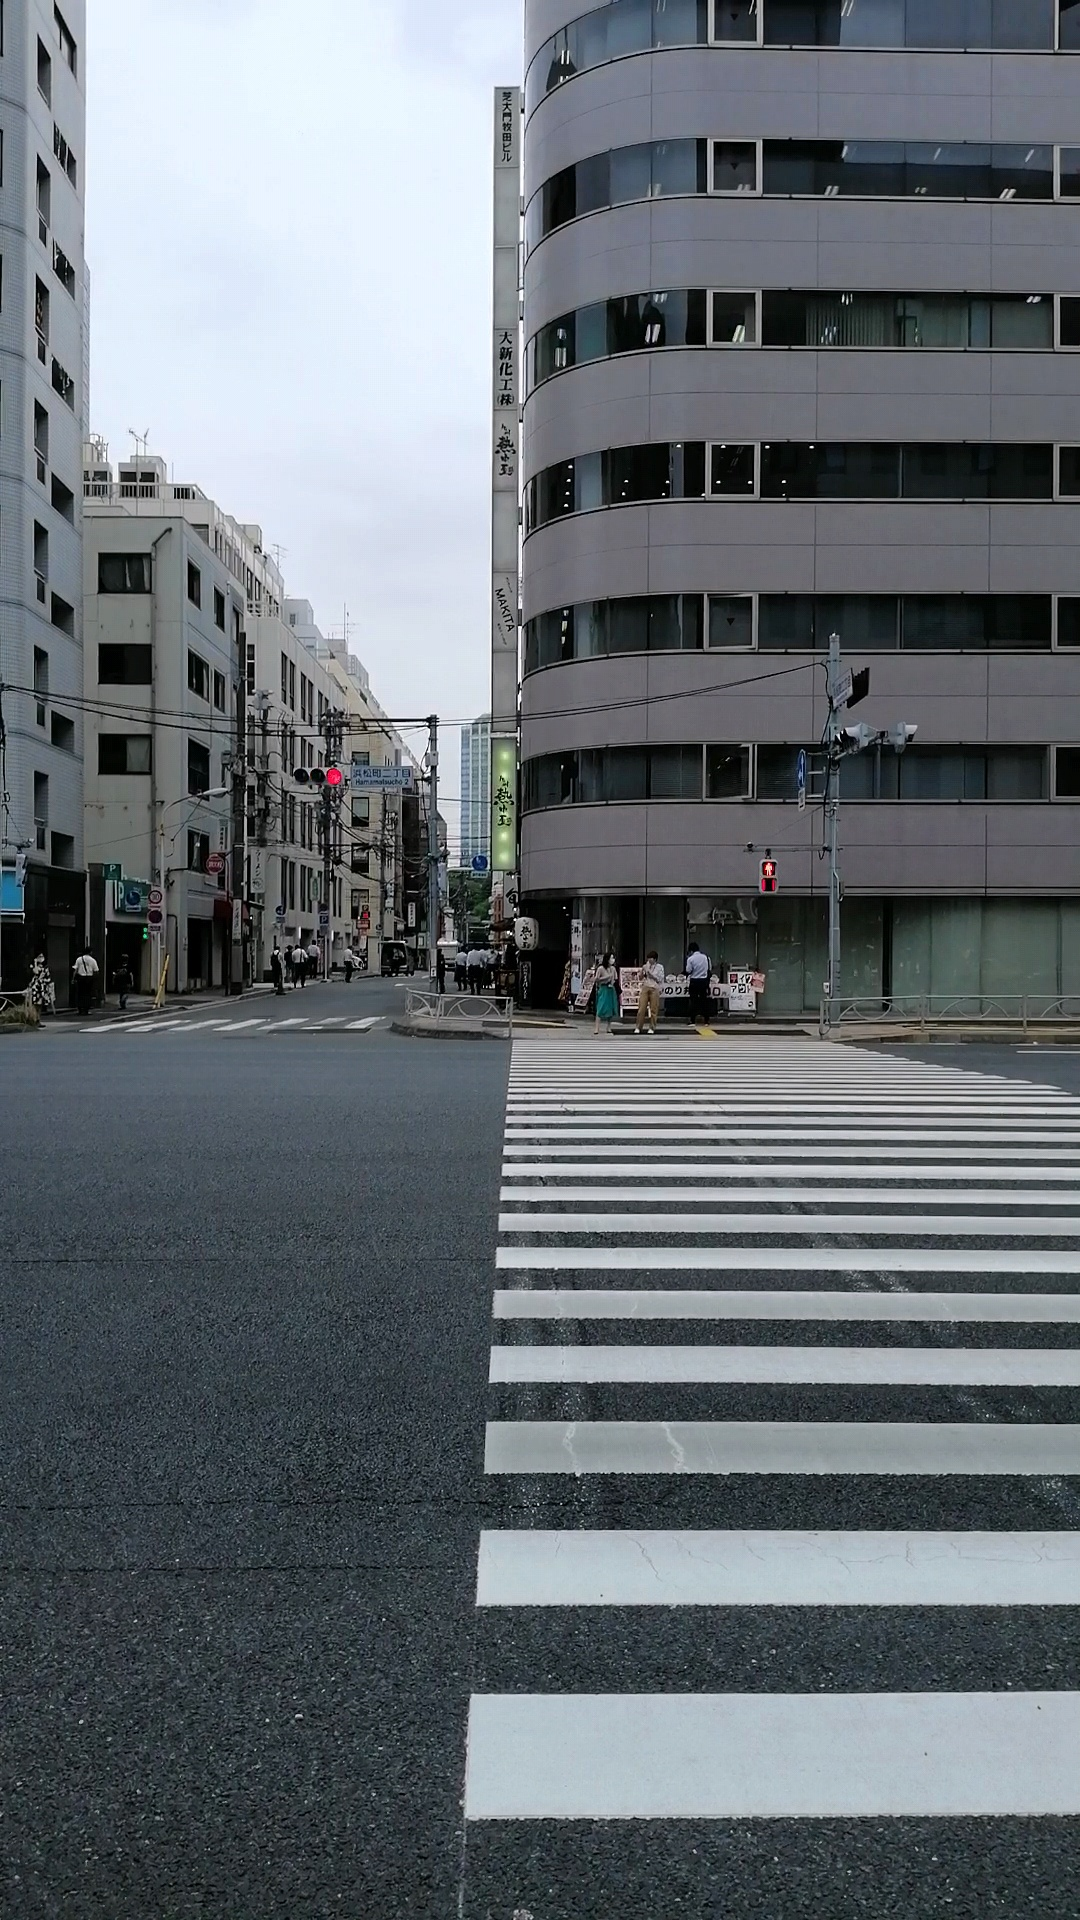red: (758, 857, 778, 894)
